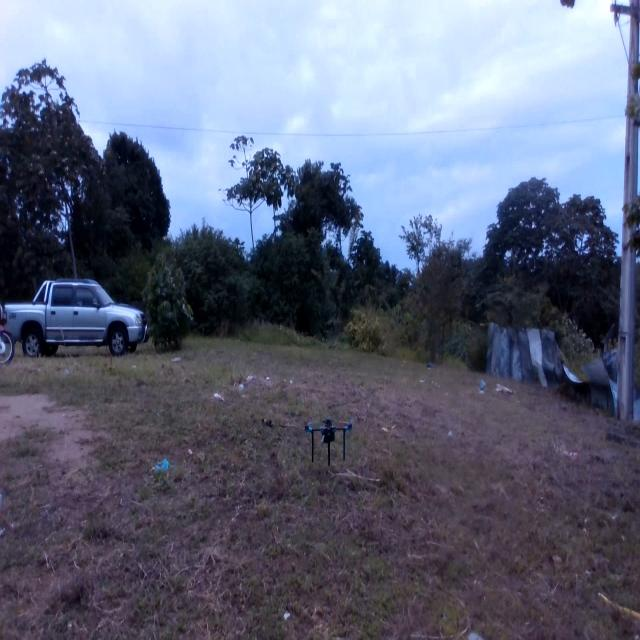-uav-: (298, 410, 368, 472)
